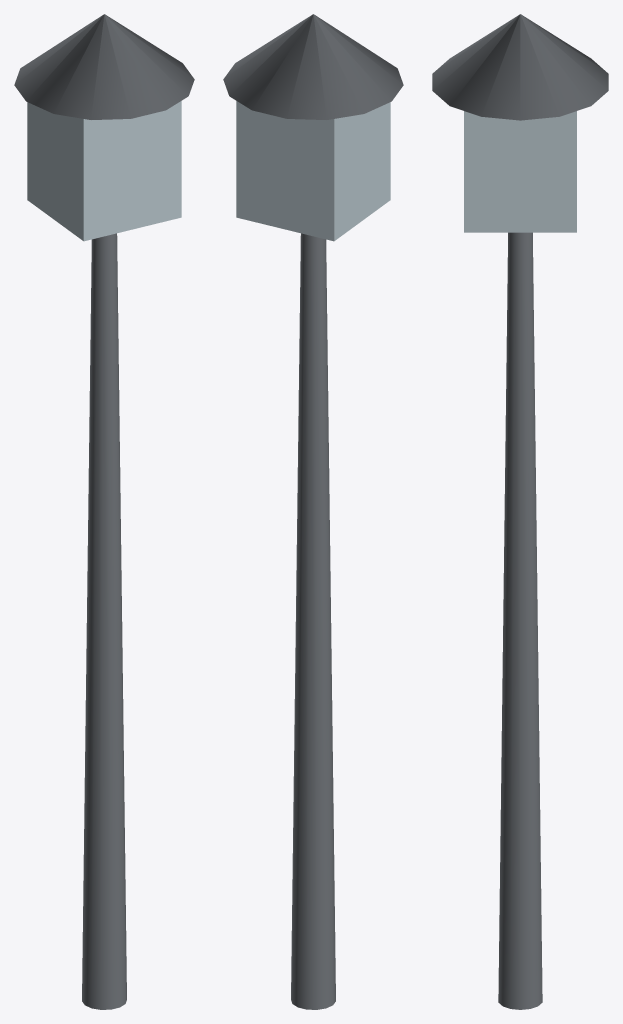
The model's file is Lantern.glb.
3 renders of one model, left to right at view 1: azimuth 30°, elevation 25°; view 2: azimuth 150°, elevation 25°; view 3: azimuth 270°, elevation 25°, orthographic.
Visible parts, largest first — view 1: model; view 2: model; view 3: model.
Part boxes in pixels (bbox=[...]): model: bbox=[14, 14, 194, 1009]; model: bbox=[223, 14, 403, 1009]; model: bbox=[432, 14, 608, 1009].
Size of the model in its own units: 0.72 by 4.33 by 0.7019.
